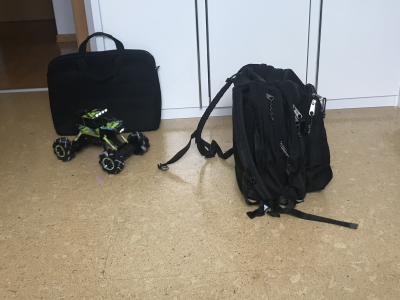remote control car: (52, 105, 151, 175)
